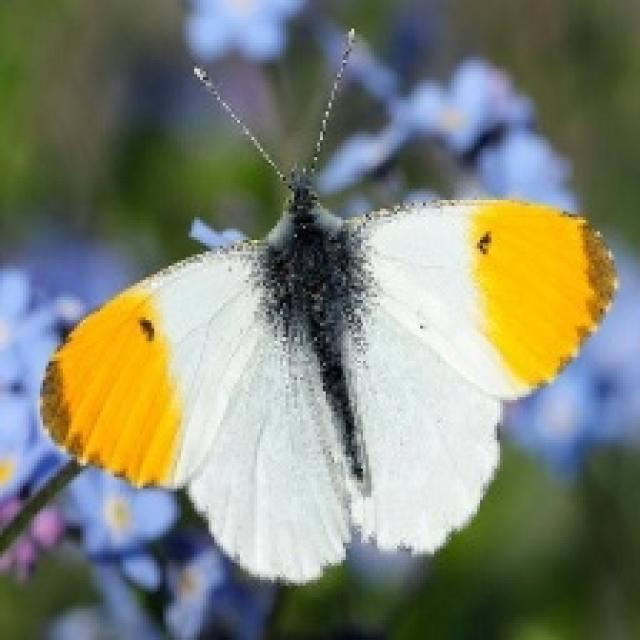butterfly: (37, 26, 617, 586)
